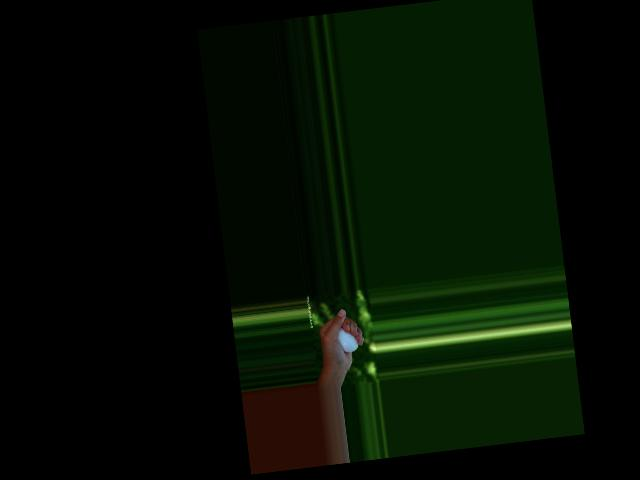egg: (337, 325, 358, 353)
